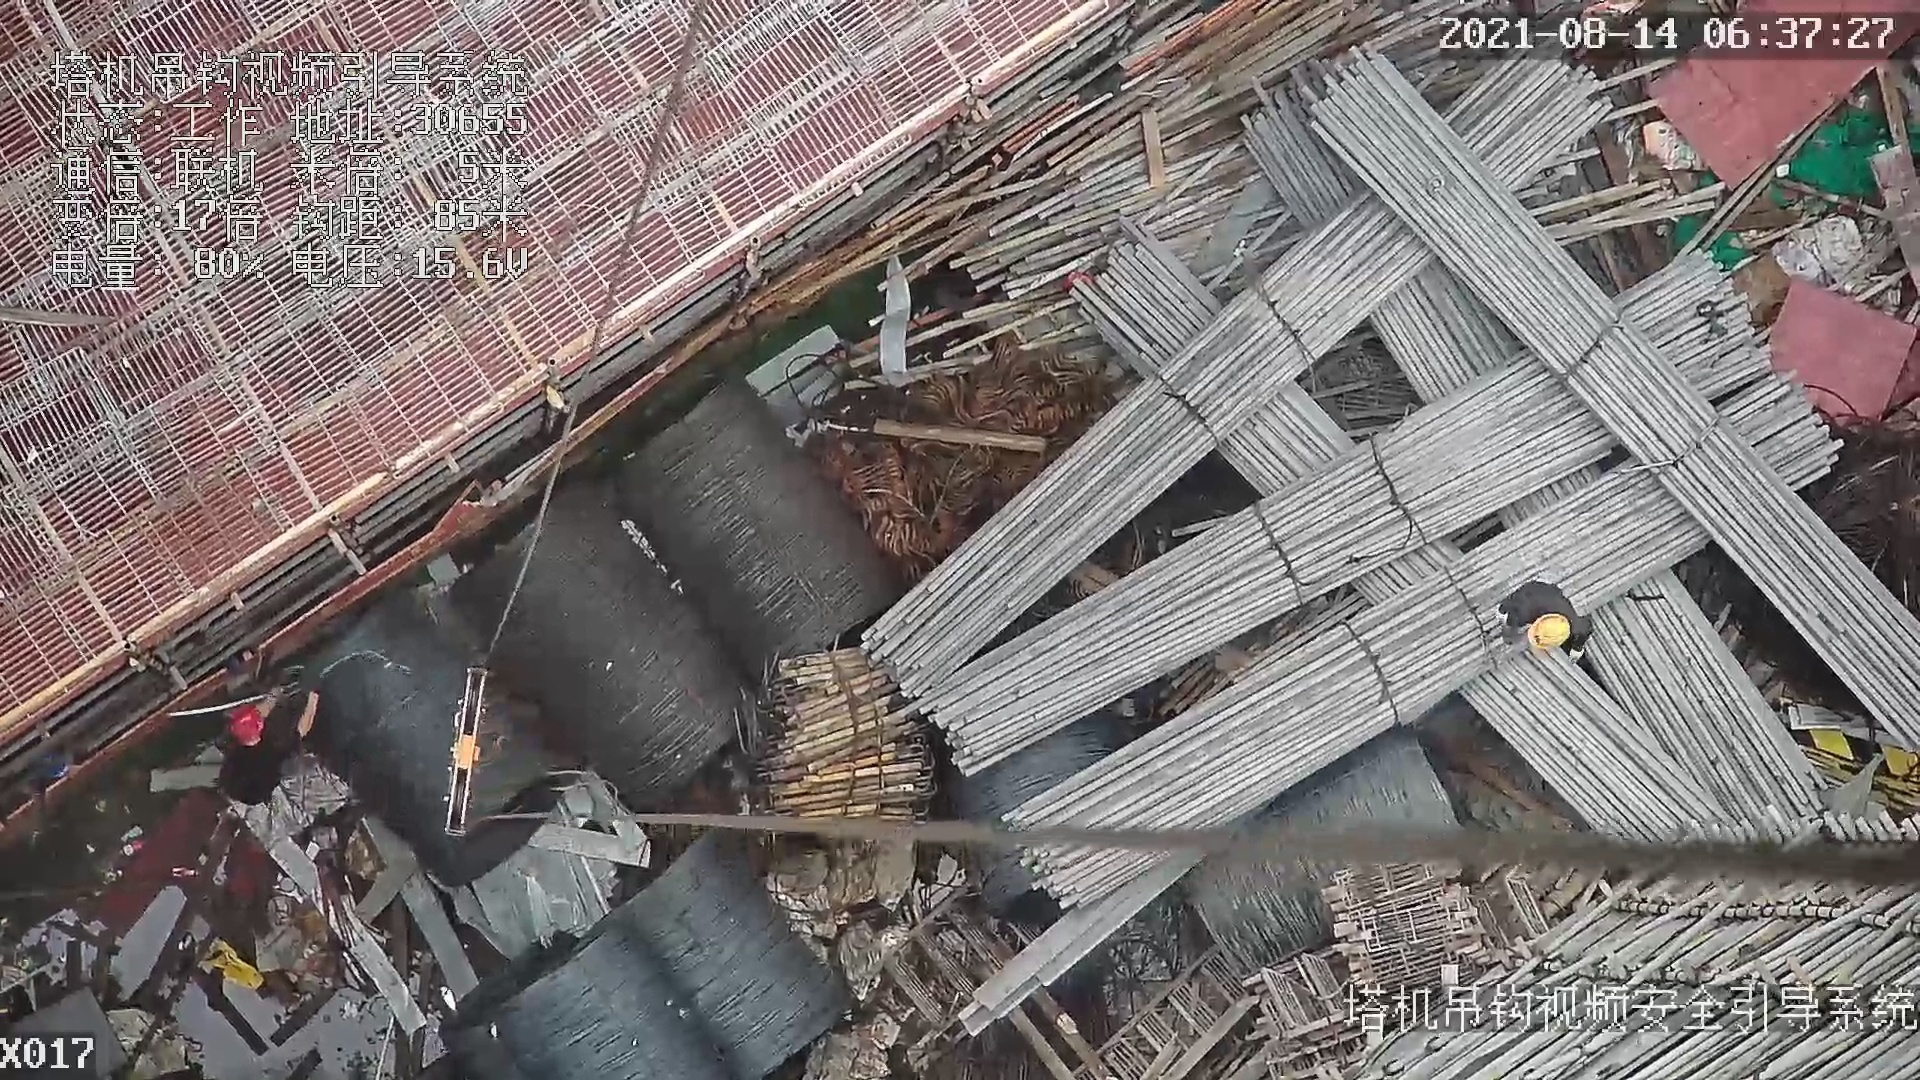helmet: (1522, 612, 1578, 657), (217, 705, 266, 740)
hook: (442, 663, 485, 840)
person: (213, 680, 323, 804), (1500, 576, 1599, 669)
scaffold: (929, 37, 1915, 840), (760, 644, 955, 824)
